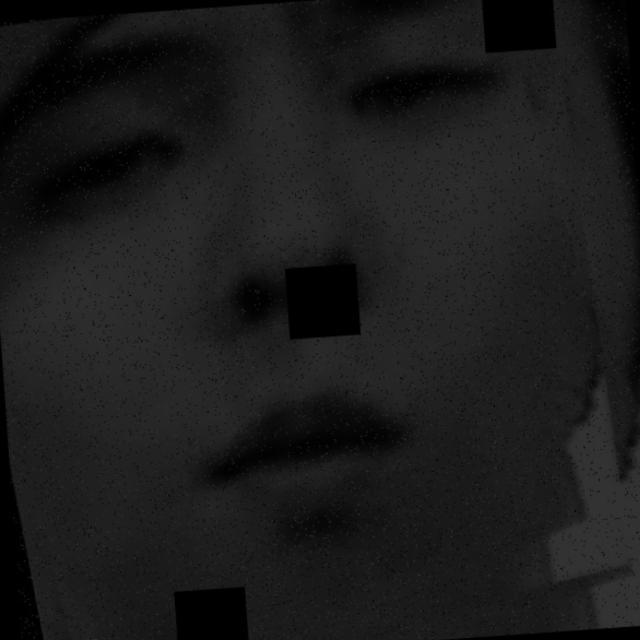angry: (20, 12, 615, 577)
